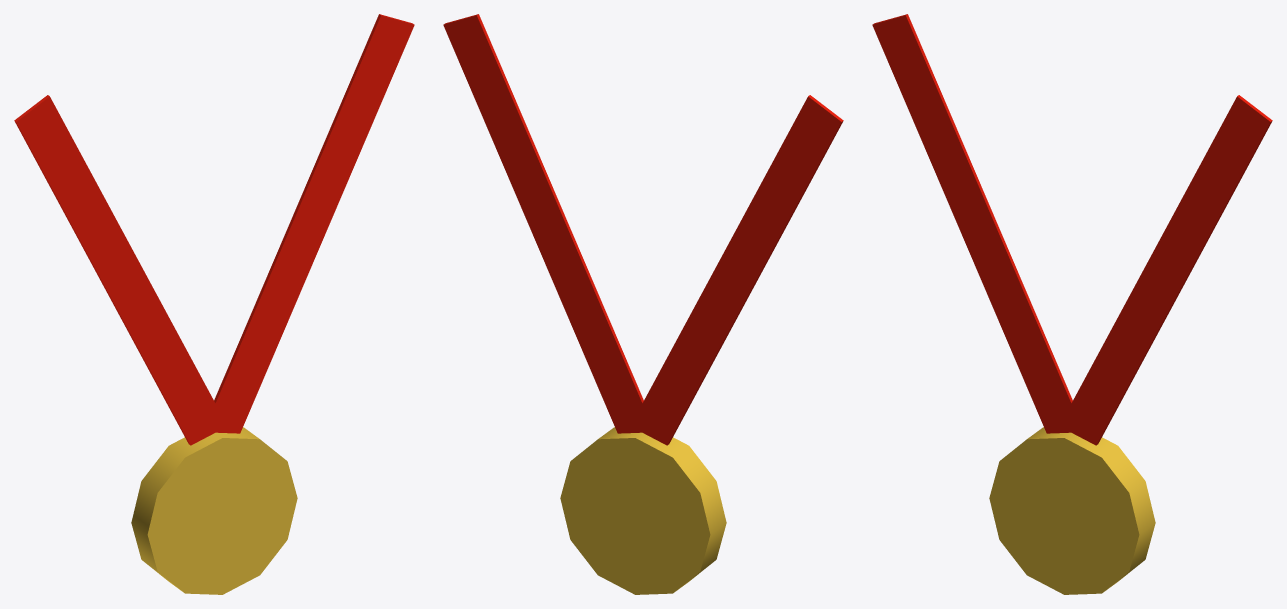
File: Medal.fbx
3 views of the same model, side by side, from view 1: azimuth 30°, elevation 25°; view 2: azimuth 150°, elevation 25°; view 3: azimuth 330°, elevation 25° (orthographic).
Parts seen in each view (by area): view 1: Medal; view 2: Medal; view 3: Medal.
Boxes of the visible parts, box(x1,y1,x2,y2) form: Medal: box(14, 14, 414, 594); Medal: box(443, 14, 843, 594); Medal: box(872, 14, 1272, 594).
Bounding box in the file's own units: 106 × 136 × 7.5.
